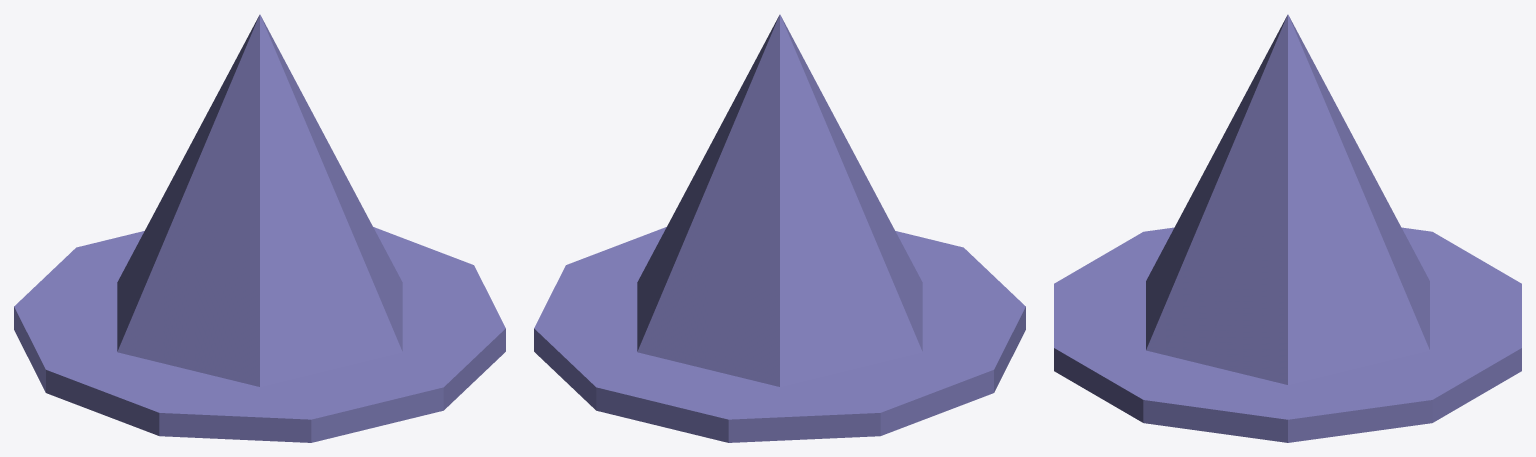
The model's file is HelmetMage.glb.
The picture shows the model from 3 angles, left to right: view 1: azimuth 30°, elevation 25°; view 2: azimuth 150°, elevation 25°; view 3: azimuth 270°, elevation 25°; orthographic projection.
Parts seen in each view (by area): view 1: filler_HelmetMage; view 2: filler_HelmetMage; view 3: filler_HelmetMage.
Part boxes in pixels (x1,y1,x2,y2): filler_HelmetMage: [14, 14, 505, 442]; filler_HelmetMage: [534, 14, 1025, 442]; filler_HelmetMage: [1054, 14, 1521, 442].
Size of the model in its own units: 0.96 by 0.7 by 0.913.
